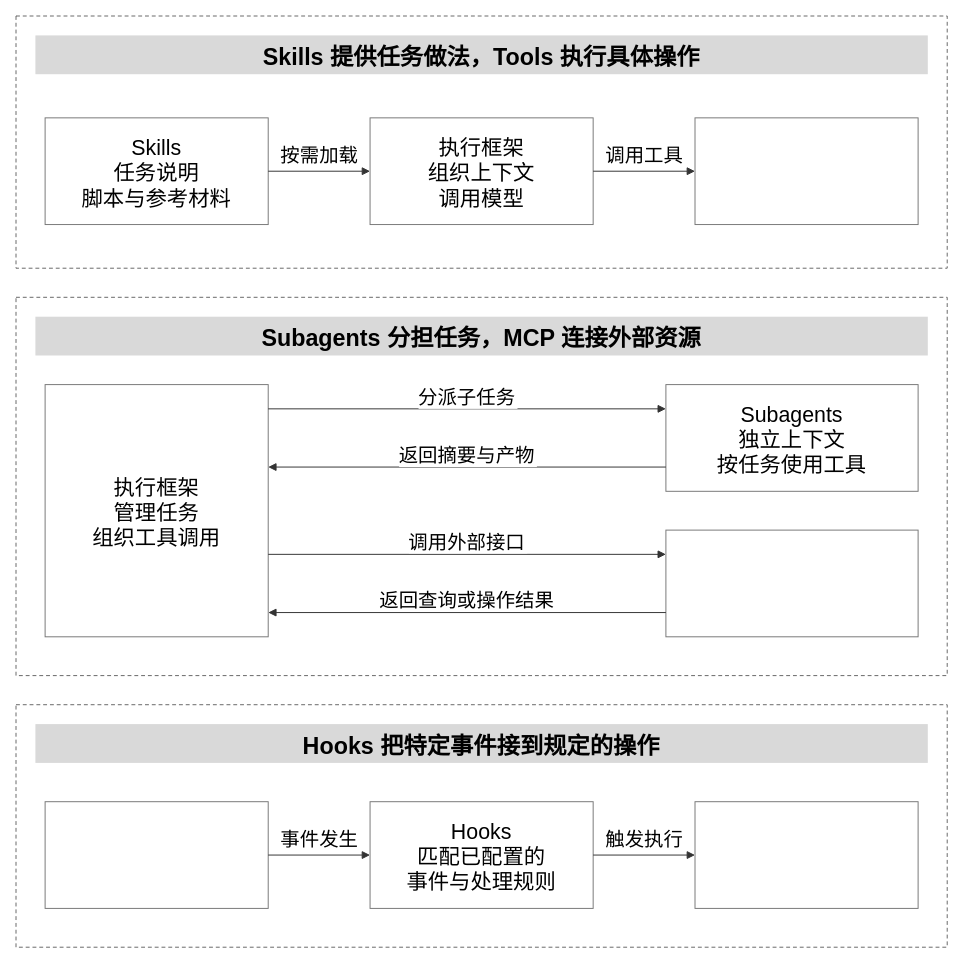
The diagram is 963 pixels wide and 963 high, and some of its shapes have lost their labels. Each missing label, with the centre of its shape:
MCP 服务 外部工具与资源 数据库、文献系统等: [791,583]
Tools 读取、编辑文件 执行程序: [806,171]
执行脚本 格式整理 完成提醒等: [806,854]
框架中的事件 文件编辑完成 任务结束等: [156,854]
